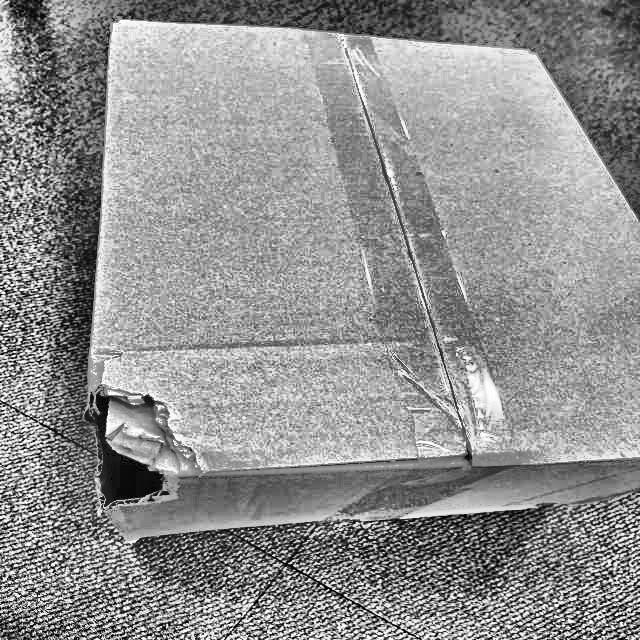box: (82, 13, 639, 551)
hole: (88, 383, 192, 504)
